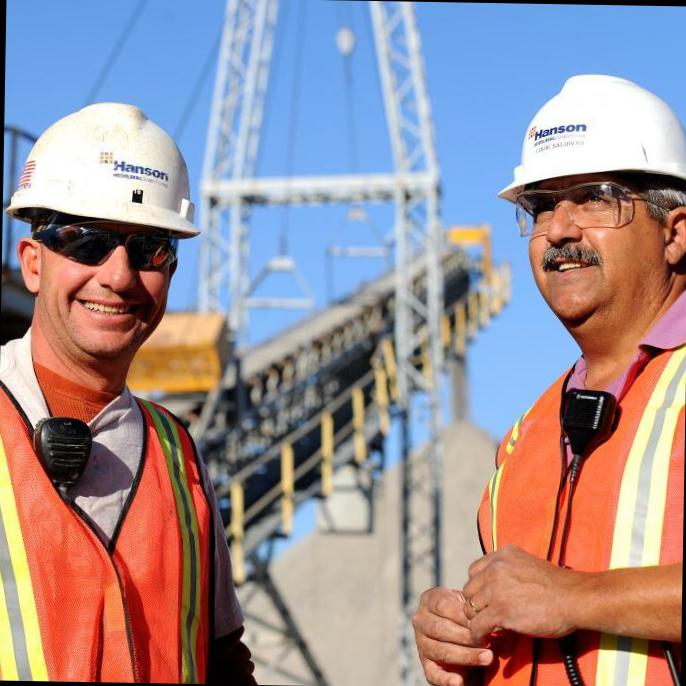Vest: (462, 316, 686, 686), (0, 353, 207, 684)
